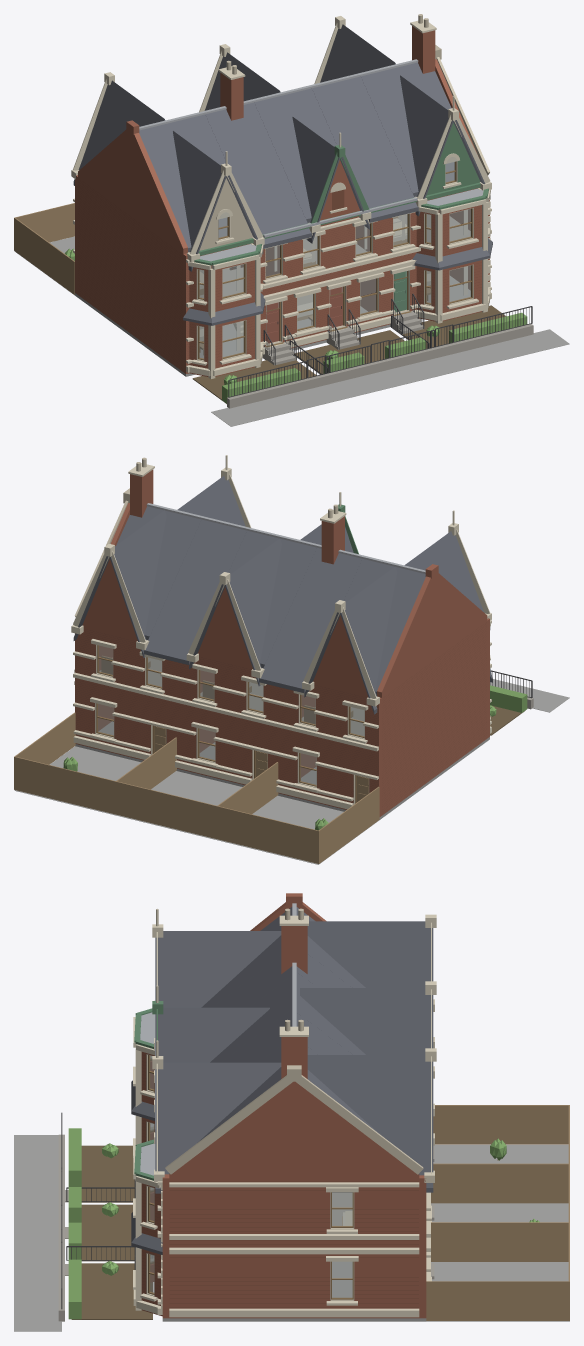
The model's file is clay-queen-anne-rowhouse-trio-clay-v006.glb.
3 renders of one model, top to bottom at view 1: azimuth 30°, elevation 25°; view 2: azimuth 150°, elevation 25°; view 3: azimuth 270°, elevation 25°, orthographic. The views are drawn at different scales.
Parts seen in each view (by area): view 1: CLAY_ROOF, CLAY_WALL, CLAY_PALE, CLAY_FOUNDATION, CLAY_GLASS, CLAY_STONE, CLAY_SAND, CLAY_HARDWARE, CLAY_GREEN, CLAY_SOIL, CLAY_TIMBER, CLAY_PLANTING (+6 smaller); view 2: CLAY_WALL, CLAY_ROOF, CLAY_TIMBER, CLAY_PALE, CLAY_FOUNDATION, CLAY_GLASS, CLAY_JOINT, CLAY_SAND, CLAY_TRIM, CLAY_LEAD, CLAY_PLANTING, CLAY_FLOOR; view 3: CLAY_ROOF, CLAY_WALL, CLAY_TIMBER, CLAY_FOUNDATION, CLAY_PALE, CLAY_SOIL, CLAY_JOINT, CLAY_SAND, CLAY_PLANTING, CLAY_GLASS, CLAY_STONE, CLAY_LEAD (+4 smaller).
Part boxes in pixels (x1,y1,x2,y2): CLAY_ROOF: (73,24,492,325); CLAY_WALL: (75,26,489,376); CLAY_PALE: (71,16,491,378); CLAY_FOUNDATION: (15,236,569,426); CLAY_GLASS: (199,157,470,358); CLAY_STONE: (227,310,533,408); CLAY_SAND: (196,14,489,361); CLAY_HARDWARE: (228,266,532,397); CLAY_GREEN: (194,123,488,265); CLAY_SOIL: (192,305,505,403); CLAY_TIMBER: (14,203,433,349); CLAY_PLANTING: (65,248,527,403); CLAY_WALL: (75,469,489,816); CLAY_ROOF: (73,476,492,714); CLAY_TIMBER: (14,655,379,863); CLAY_PALE: (71,455,491,809); CLAY_FOUNDATION: (14,679,569,864); CLAY_GLASS: (98,645,364,784); CLAY_JOINT: (75,622,486,809); CLAY_SAND: (74,457,369,804); CLAY_TRIM: (96,645,364,803); CLAY_LEAD: (146,503,425,573); CLAY_PLANTING: (63,685,527,830); CLAY_FLOOR: (99,640,364,735); CLAY_ROOF: (131,907,433,1254); CLAY_WALL: (141,893,426,1318); CLAY_TIMBER: (342,1105,569,1320); CLAY_FOUNDATION: (14,1135,569,1331); CLAY_PALE: (133,908,436,1317); CLAY_SOIL: (71,1145,152,1319); CLAY_JOINT: (142,1055,418,1315); CLAY_SAND: (146,908,423,1300); CLAY_PLANTING: (68,1128,539,1319); CLAY_GLASS: (150,1055,352,1297); CLAY_STONE: (58,1134,434,1321); CLAY_LEAD: (140,903,296,1175).
Bounding box in the file's own units: 19.4 × 13.55 × 23.2.
